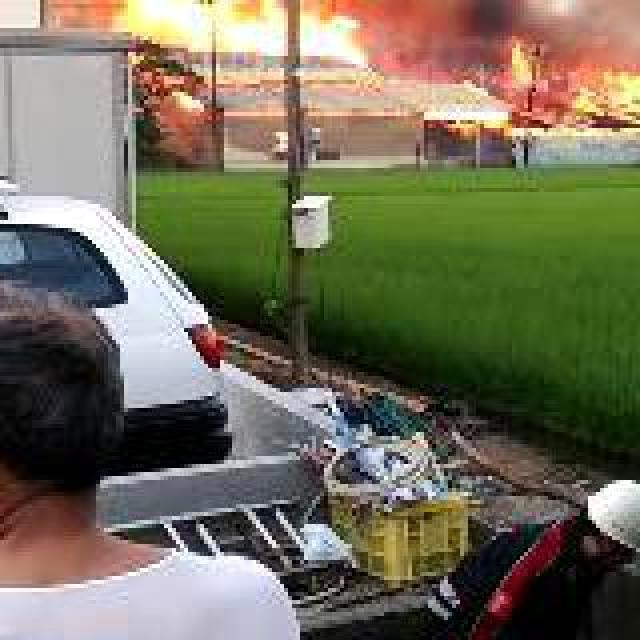smoke: (378, 0, 640, 74)
